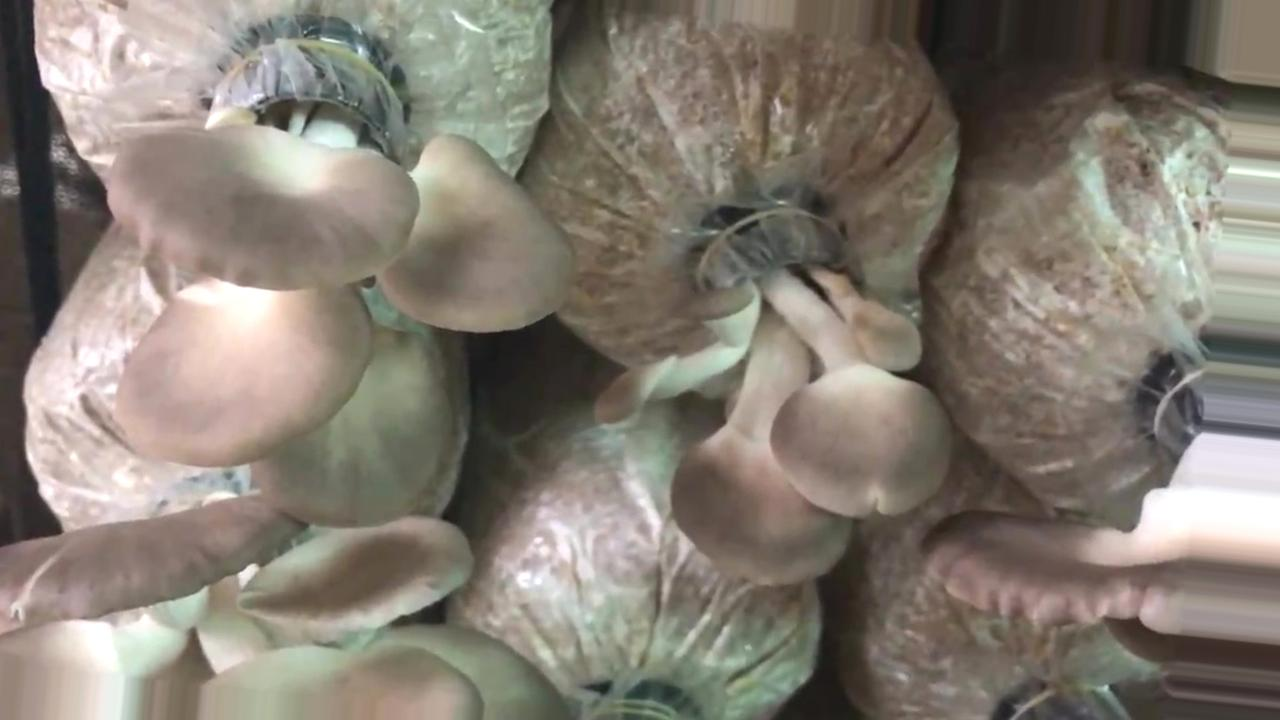nam: (109, 16, 581, 530), (591, 202, 945, 589), (1, 495, 561, 720), (956, 350, 1280, 614)
